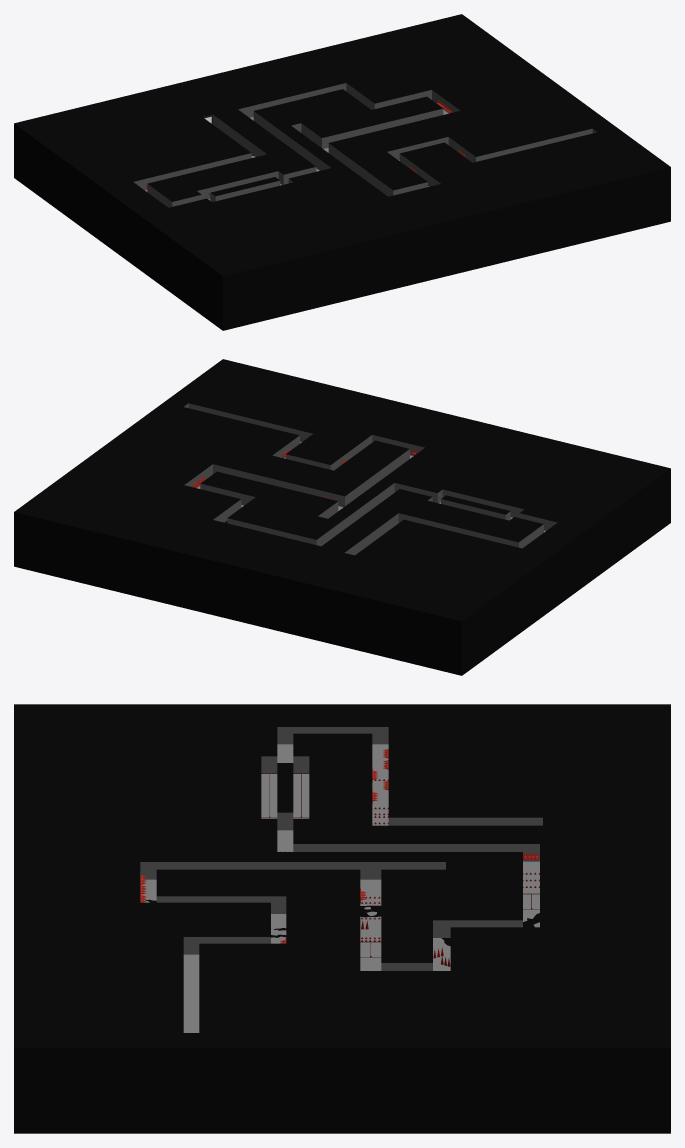
The model's file is level_3.fbx.
The picture shows the model from 3 angles, top to bottom: view 1: azimuth 30°, elevation 25°; view 2: azimuth 150°, elevation 25°; view 3: azimuth 270°, elevation 25°; orthographic projection. The views are drawn at different scales.
Parts seen in each view (by area): view 1: base; view 2: base; view 3: base.
Boxes of the visible parts, box(x1,y1,x2,y2) form: base: box(14, 14, 670, 330); base: box(14, 359, 670, 675); base: box(14, 704, 670, 1133).
Bounding box in the file's own units: 41030 × 4776 × 33156.
